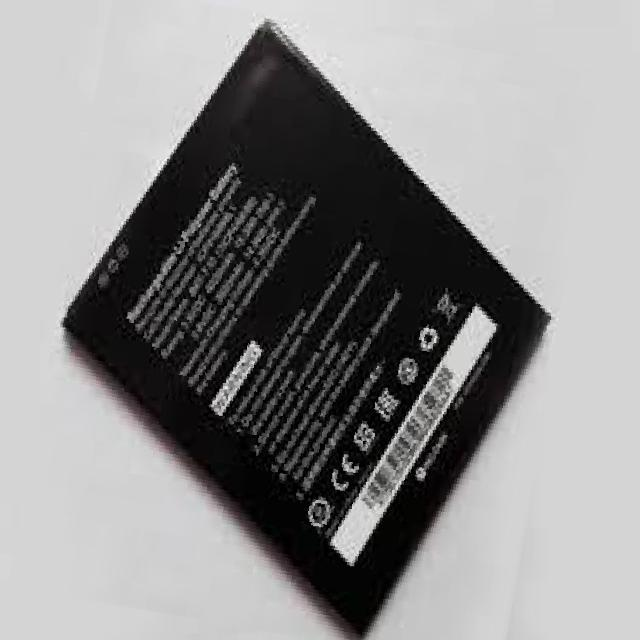Battery: (57, 10, 583, 640)
